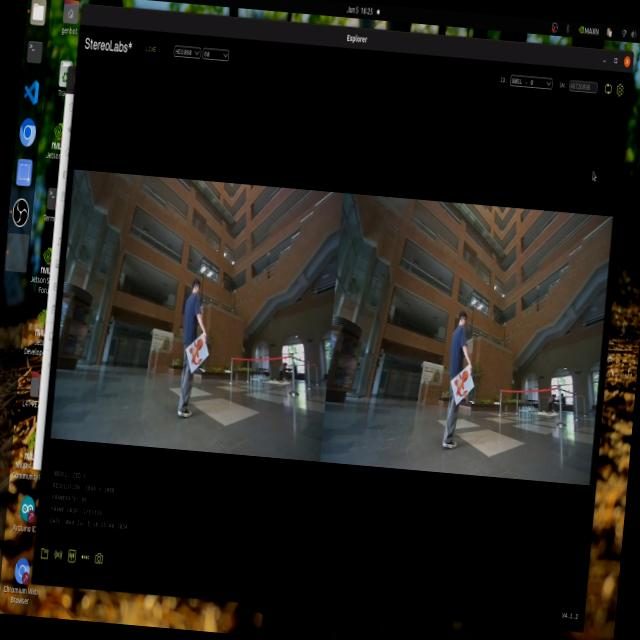red: (181, 333, 208, 370), (450, 364, 470, 406)
